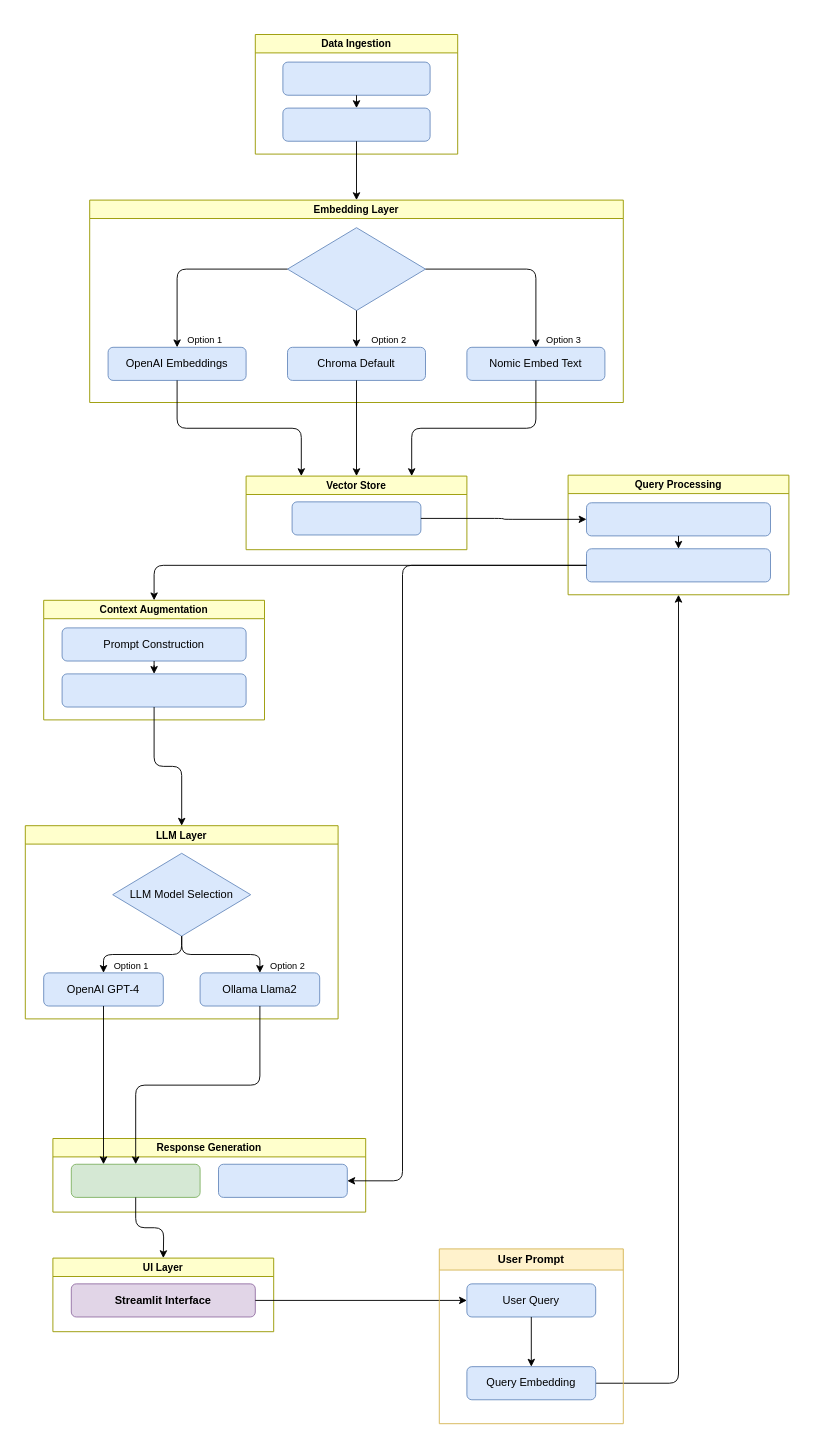
The diagram is 822 pixels wide and 1448 high, and some of its shapes have lost their labels. The shapes that lost their labels are listed below. From the top down, each one's centre as x and y in pixels, then its label:
[356,78]: Space Facts CSV
[356,124]: Document Loading
[356,268]: Embedding Model Selection
[356,518]: ChromaDB
[678,519]: Vector Similarity Search
[678,565]: Top-K Related Chunks
[153,690]: Augmented Prompt
[135,1180]: Final Response
[282,1180]: Reference Sources
